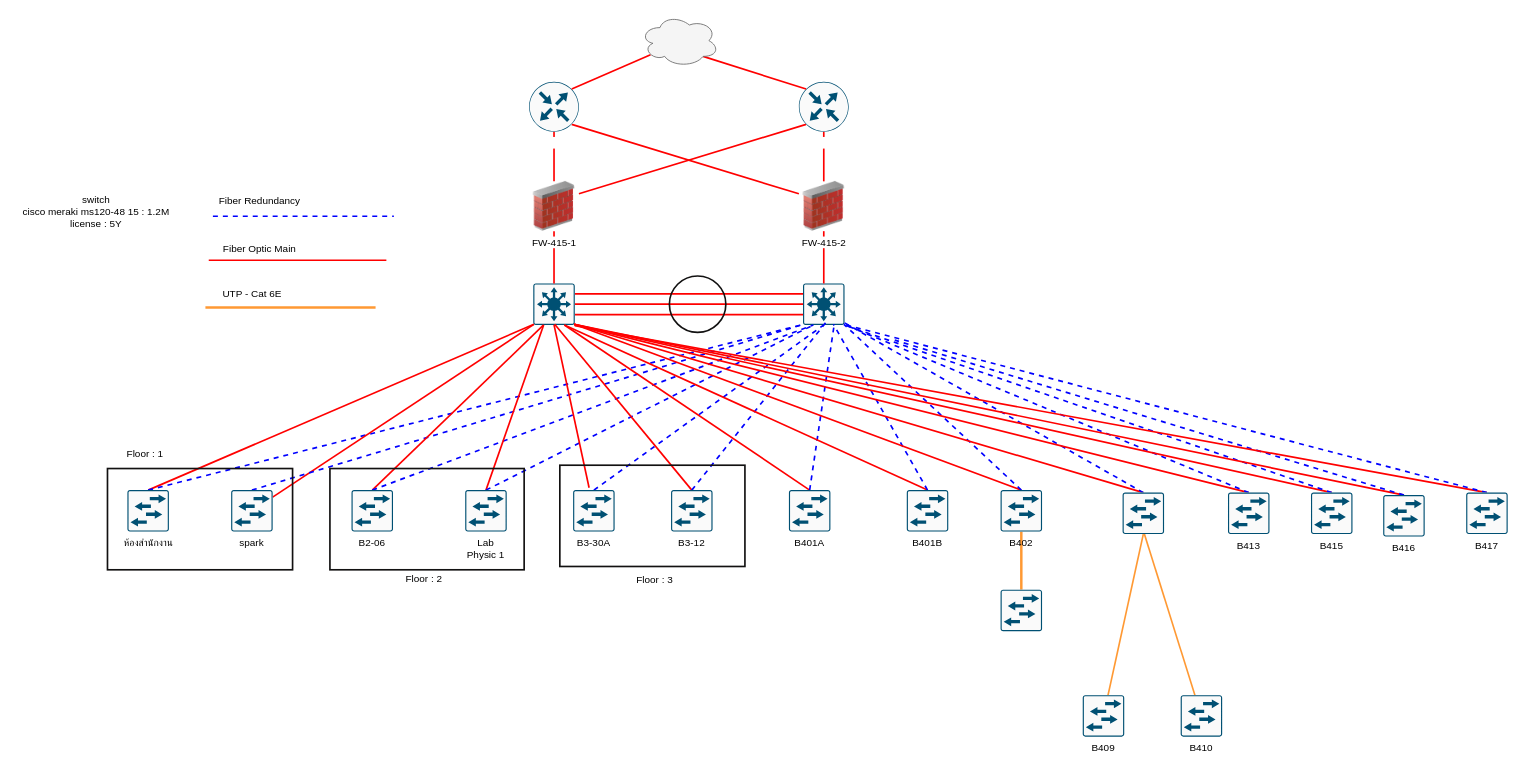
This 1522x769 diagram has some shape labels left out. Here are the shapes that lost their labels. From the top down, the centre of each, then its label:
At point 1142,513: "B408".
At point 1020,610: "B4-03".
